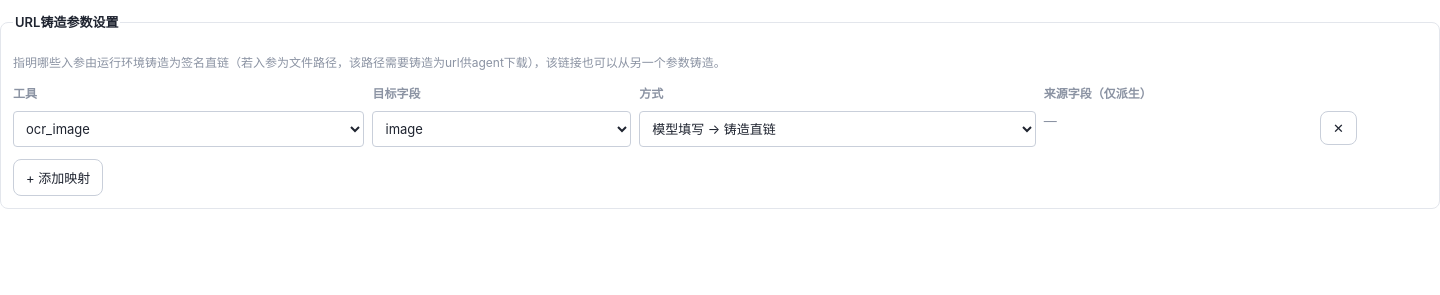
Test: FileArgsMappingTable › 重复（工具, 路径）映射给出告警
Click the button with test id "add-mapping". click: coordinates (58, 178)
box: [13,159,103,196]
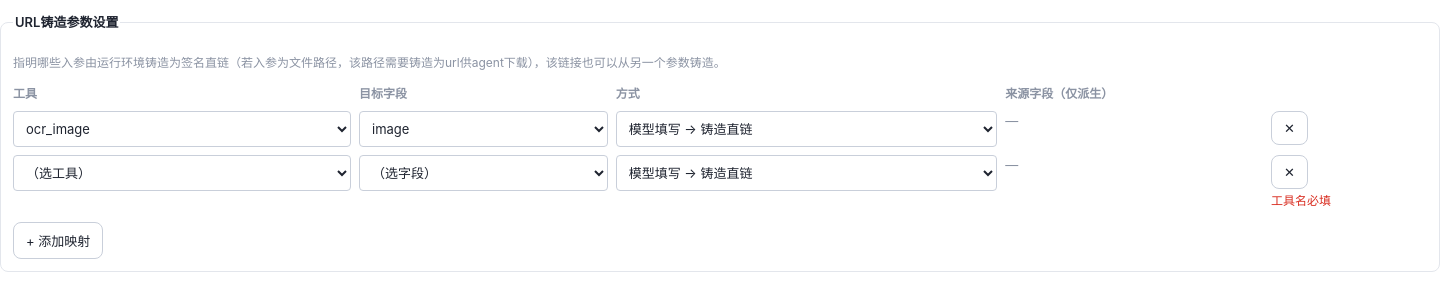
Select "ocr_image" in the dropdown with test id "row-tool-1". click: coordinates (182, 173)
box: [13,155,351,191]
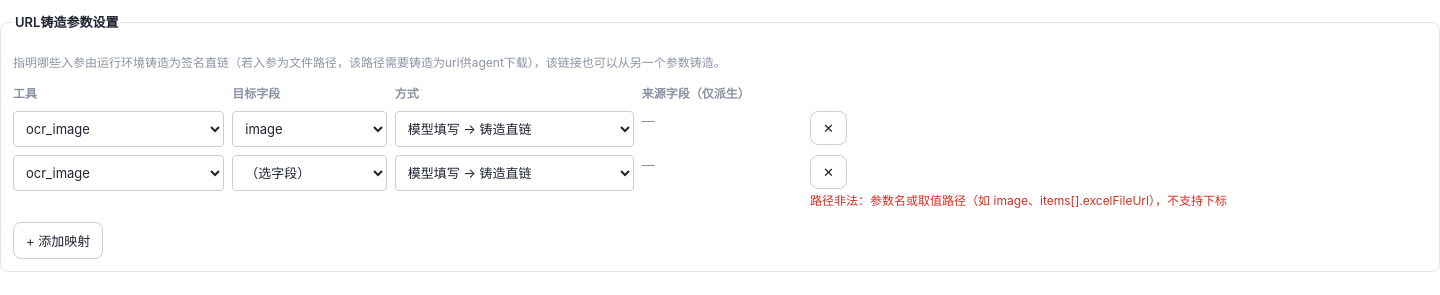
Select "image" in the dropdown with test id "row-path-1". click: coordinates (310, 173)
box: [232,155,387,191]
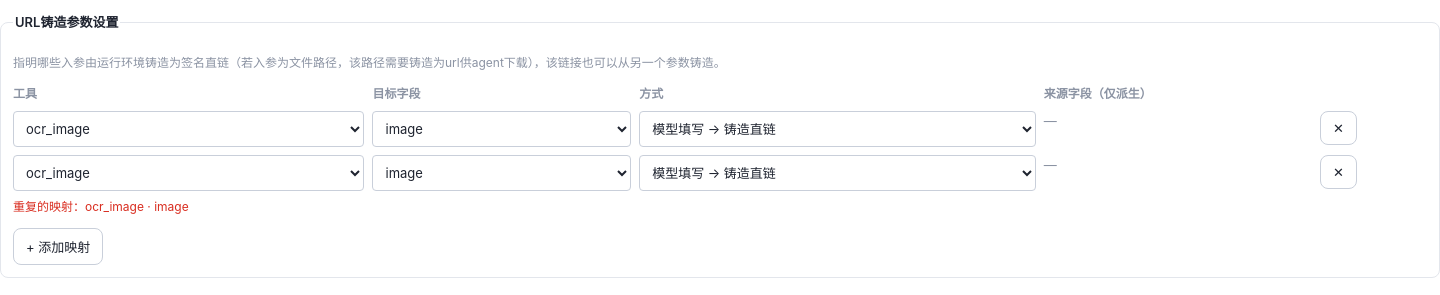
Result: the text "重复的映射" is shown at [13,199,189,214]
